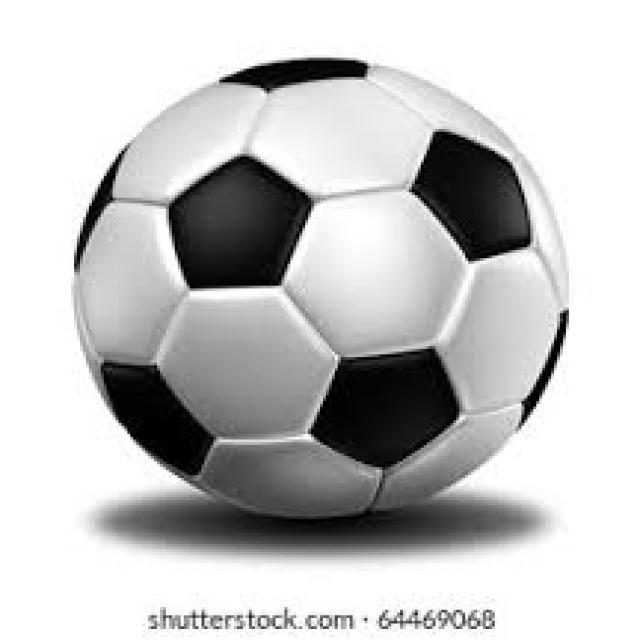ball: (72, 54, 566, 521)
